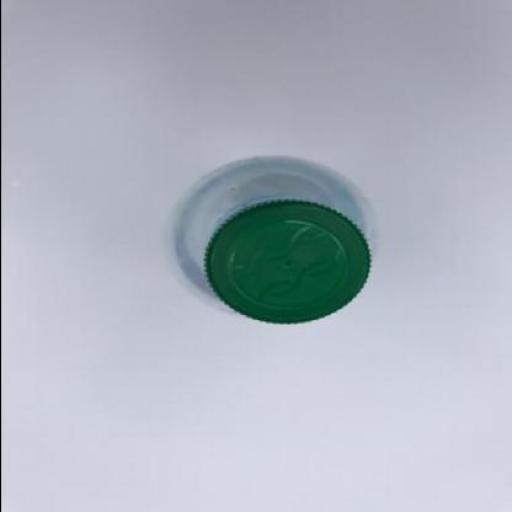plastic: (175, 157, 379, 325), (208, 200, 373, 326)
